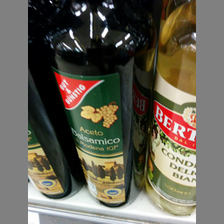vinegar: (49, 25, 137, 207), (146, 3, 199, 215)
